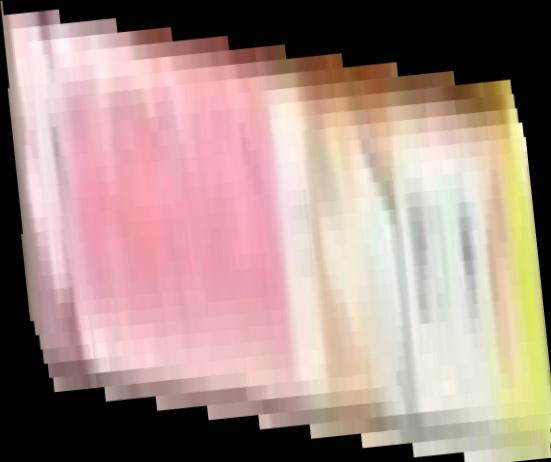flat: (1, 1, 551, 462)
